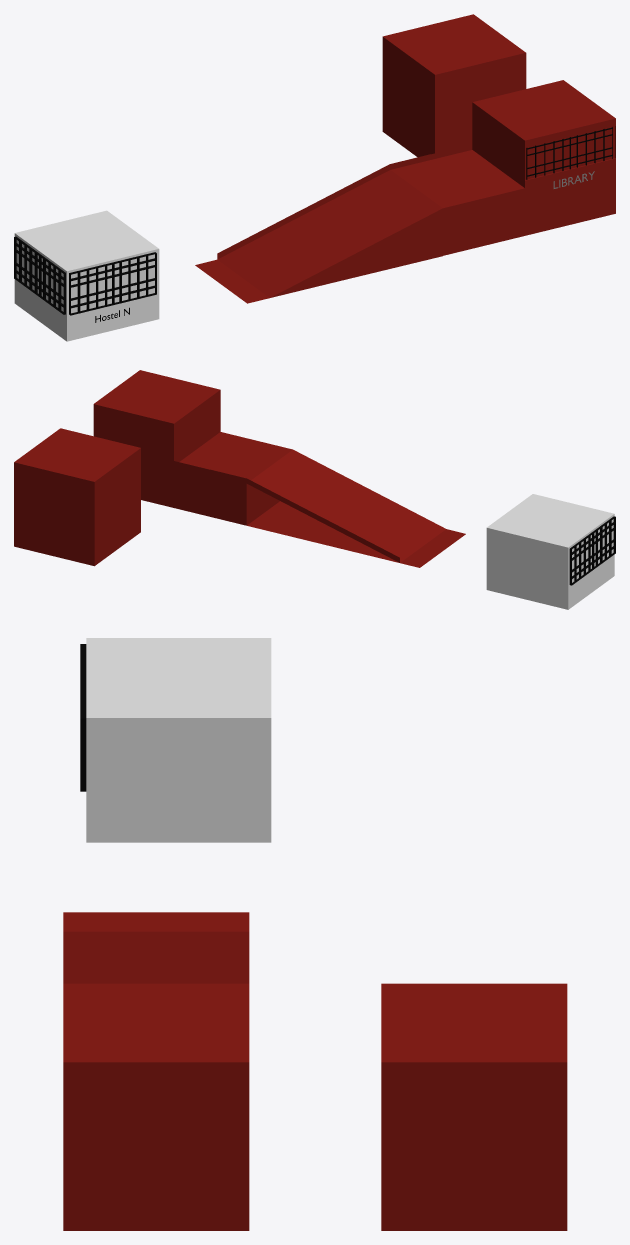
Rendered from library.fbx.
3 renders of one model, top to bottom at view 1: azimuth 30°, elevation 25°; view 2: azimuth 150°, elevation 25°; view 3: azimuth 270°, elevation 25°, orthographic. The views are drawn at different scales.
Parts seen in each view (by area): view 1: Cube, Cube.001, Cube.003, Cube.004, Cube.005, Cube.002; view 2: Cube, Cube.001, Cube.003, Cube.005; view 3: Cube, Cube.001, Cube.003, Cube.004.
Part boxes in pixels (x1,y1,x2,y2): Cube: (195, 80, 615, 303); Cube.001: (382, 14, 526, 157); Cube.003: (14, 210, 159, 341); Cube.004: (69, 252, 156, 315); Cube.005: (14, 236, 65, 314); Cube.002: (526, 127, 612, 179); Cube: (93, 370, 465, 567); Cube.001: (14, 428, 140, 566); Cube.003: (486, 494, 614, 609); Cube.005: (569, 516, 615, 585); Cube: (63, 912, 249, 1230); Cube.001: (381, 983, 567, 1230); Cube.003: (86, 638, 271, 842); Cube.004: (80, 644, 86, 791).
Size of the model in its own units: 7587 by 1272 by 3438.
